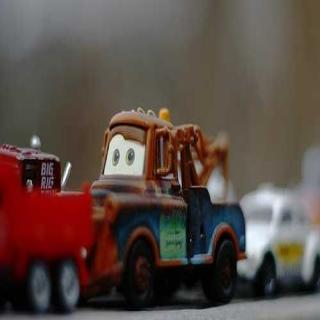Towing_truck: (94, 104, 248, 312)
